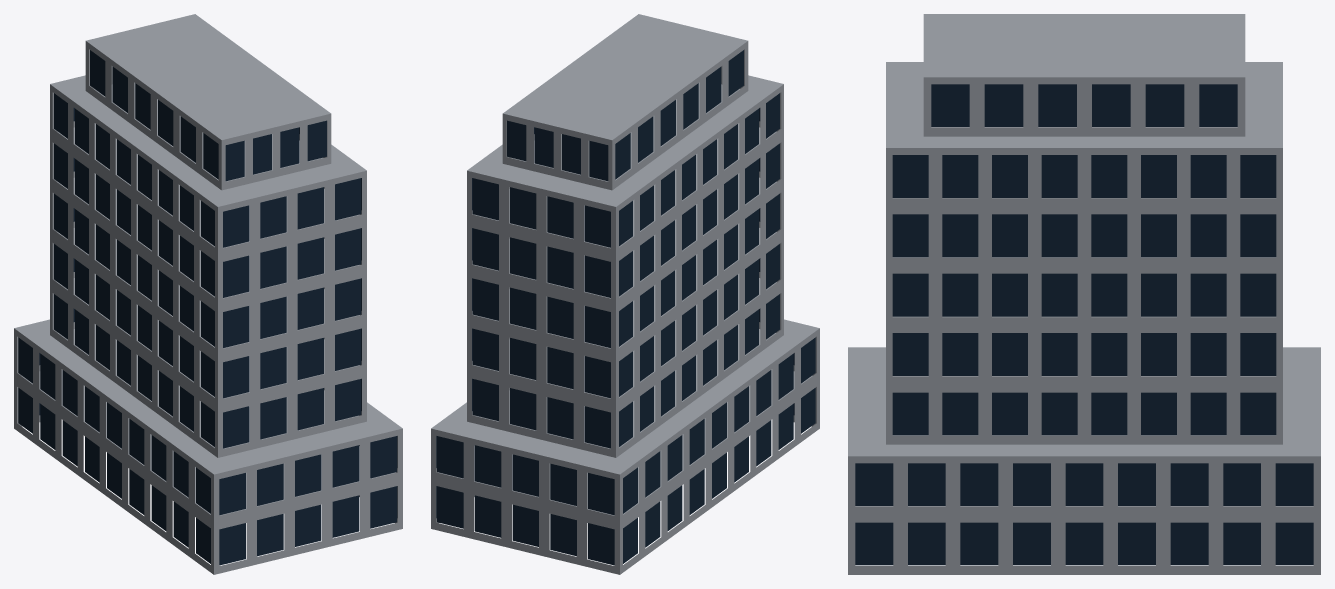
File: Residential Buildings 002.obj
3 views of the same model, side by side, from view 1: azimuth 30°, elevation 25°; view 2: azimuth 150°, elevation 25°; view 3: azimuth 270°, elevation 25° (orthographic). The views are drawn at different scales.
Parts seen in each view (by area): view 1: Residential; view 2: Residential; view 3: Residential.
Boxes of the visible parts, box(x1,y1,x2,y2) form: Residential: box(14, 14, 402, 574); Residential: box(431, 14, 819, 574); Residential: box(848, 14, 1320, 574).
Bounding box in the file's own units: 12.59 × 25.59 × 23.1.
